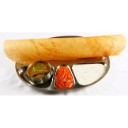dosa: (4, 36, 128, 61)
